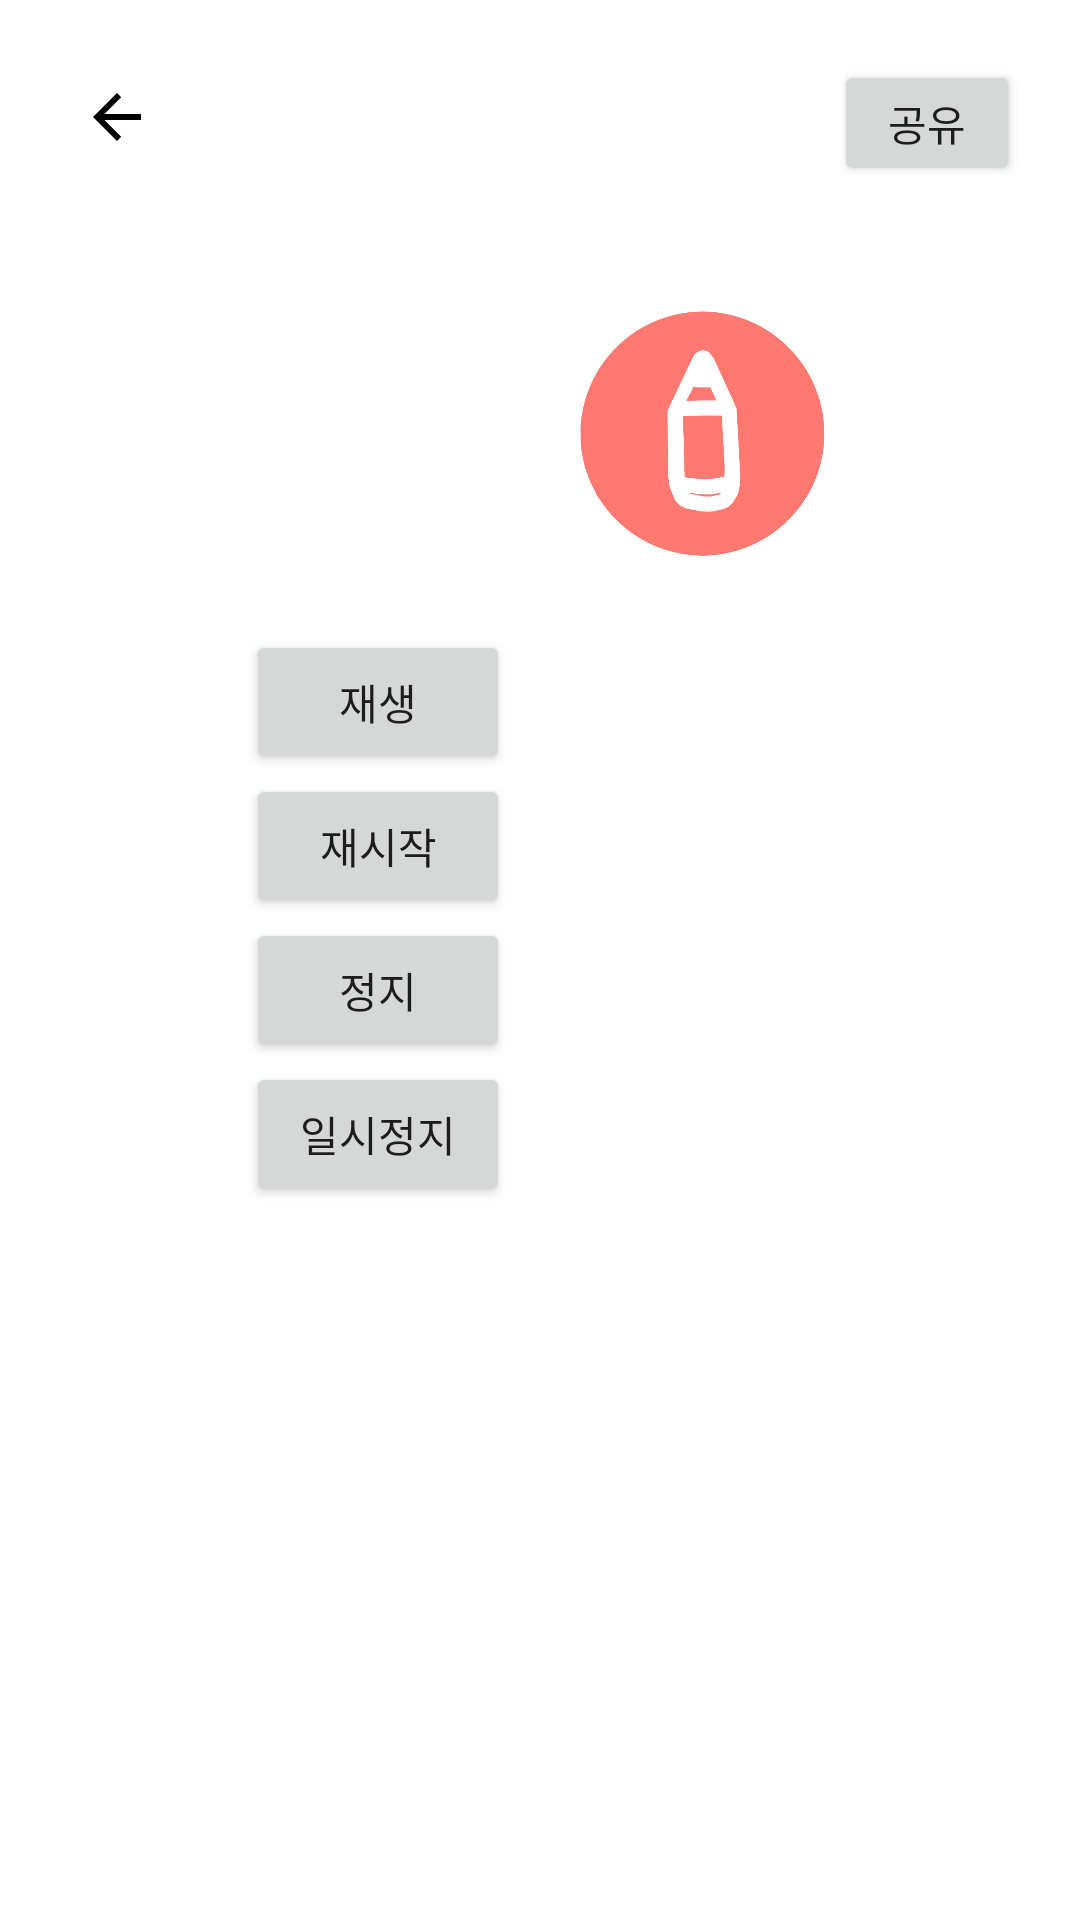

Where icons sit on this 1080×1920 app screen, as detection(x1, y1, x2, y2):
pen: detection(580, 311, 824, 556)
